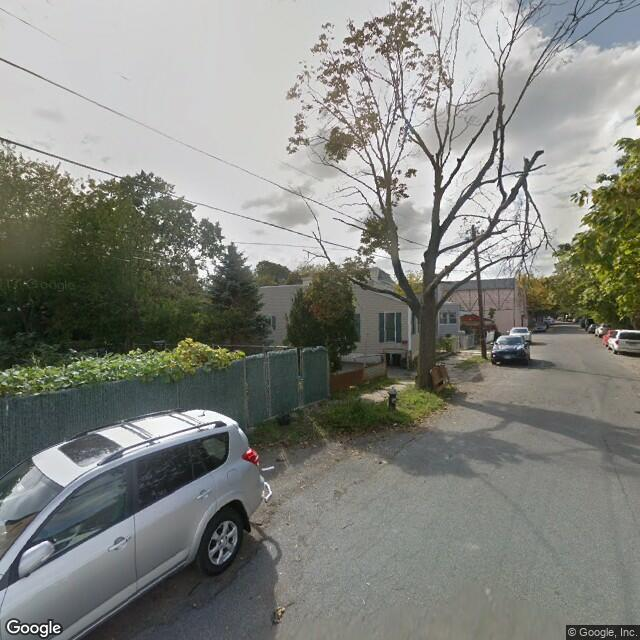litter: (263, 460, 279, 473), (391, 419, 400, 435)
